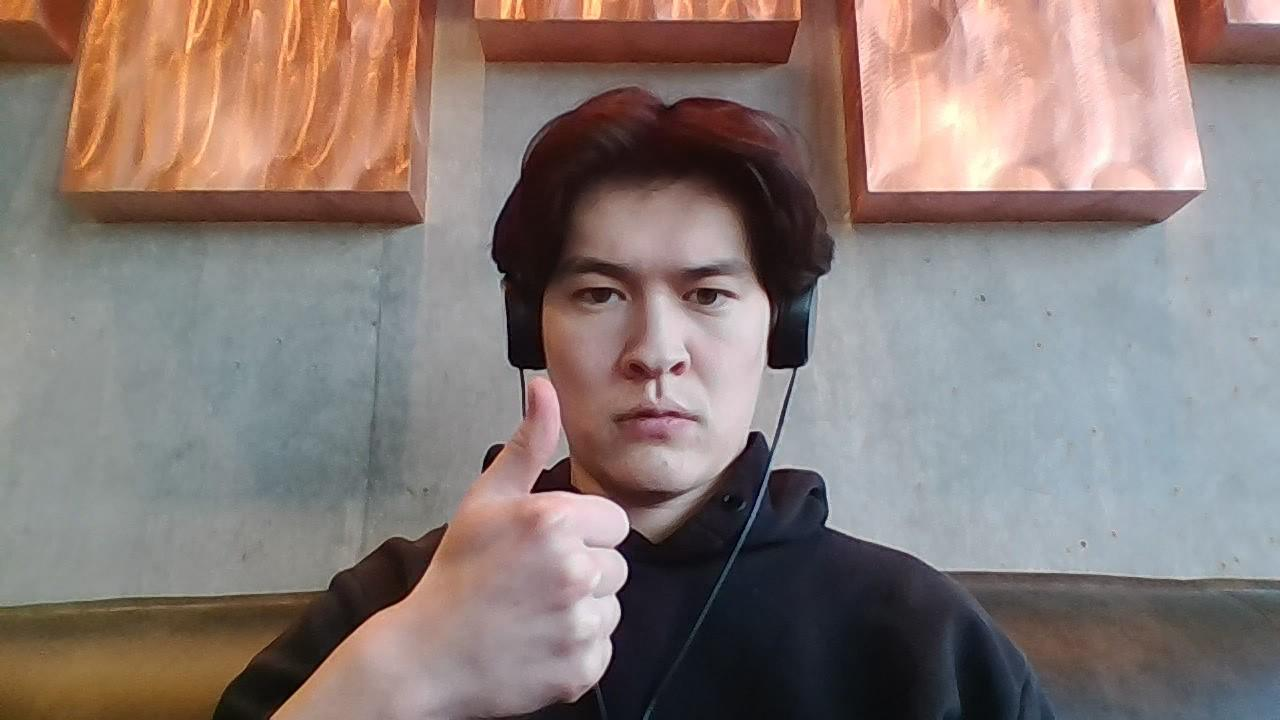thumbsUp: (406, 375, 629, 720)
